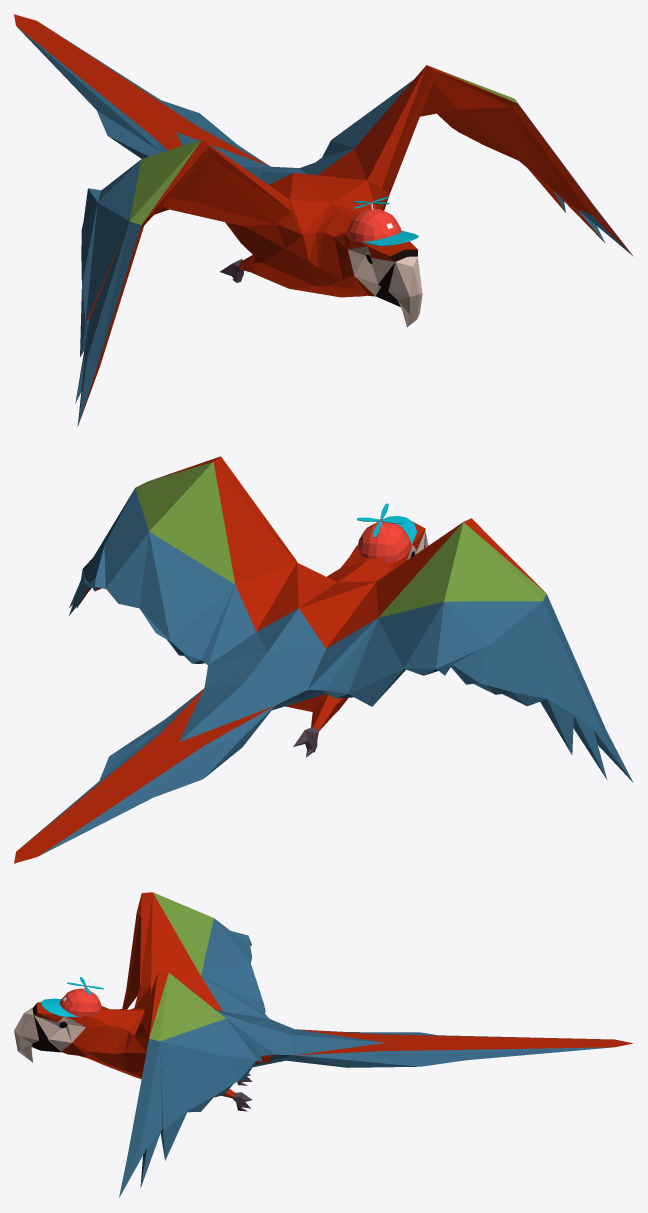
The model's file is hat_z_parrot.glb.
3 renders of one model, top to bottom at view 1: azimuth 30°, elevation 25°; view 2: azimuth 150°, elevation 25°; view 3: azimuth 270°, elevation 25°, orthographic. The views are drawn at different scales.
Visible parts, largest first — view 1: Mesh_0, PropellerCap_01_Roundcube.001; view 2: Mesh_0, PropellerCap_01_Roundcube.001; view 3: Mesh_0, PropellerCap_01_Roundcube.001.
Part boxes in pixels (bbox=[...]): Mesh_0: bbox=[14, 14, 633, 426]; PropellerCap_01_Roundcube.001: bbox=[346, 196, 418, 246]; Mesh_0: bbox=[14, 456, 633, 863]; PropellerCap_01_Roundcube.001: bbox=[357, 503, 416, 562]; Mesh_0: bbox=[14, 892, 633, 1197]; PropellerCap_01_Roundcube.001: bbox=[41, 977, 103, 1017].
Size of the model in its own units: 79.5 by 33.7 by 100.
